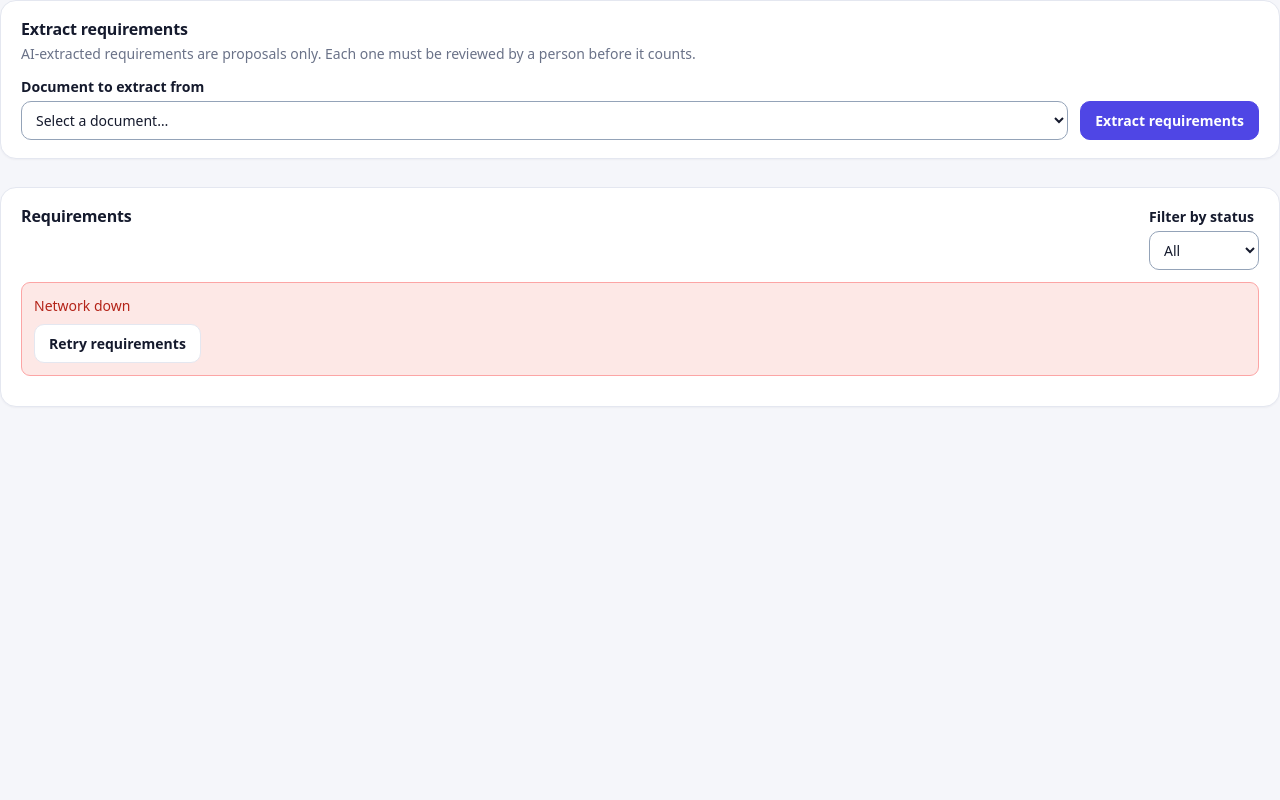
Test: RequirementsSection › shows a load error with retry
Expected: the text "Network down" is shown, [34,296,130,315]
Click the button "Retry requirements". click: (117, 344)
box: [34,324,201,363]
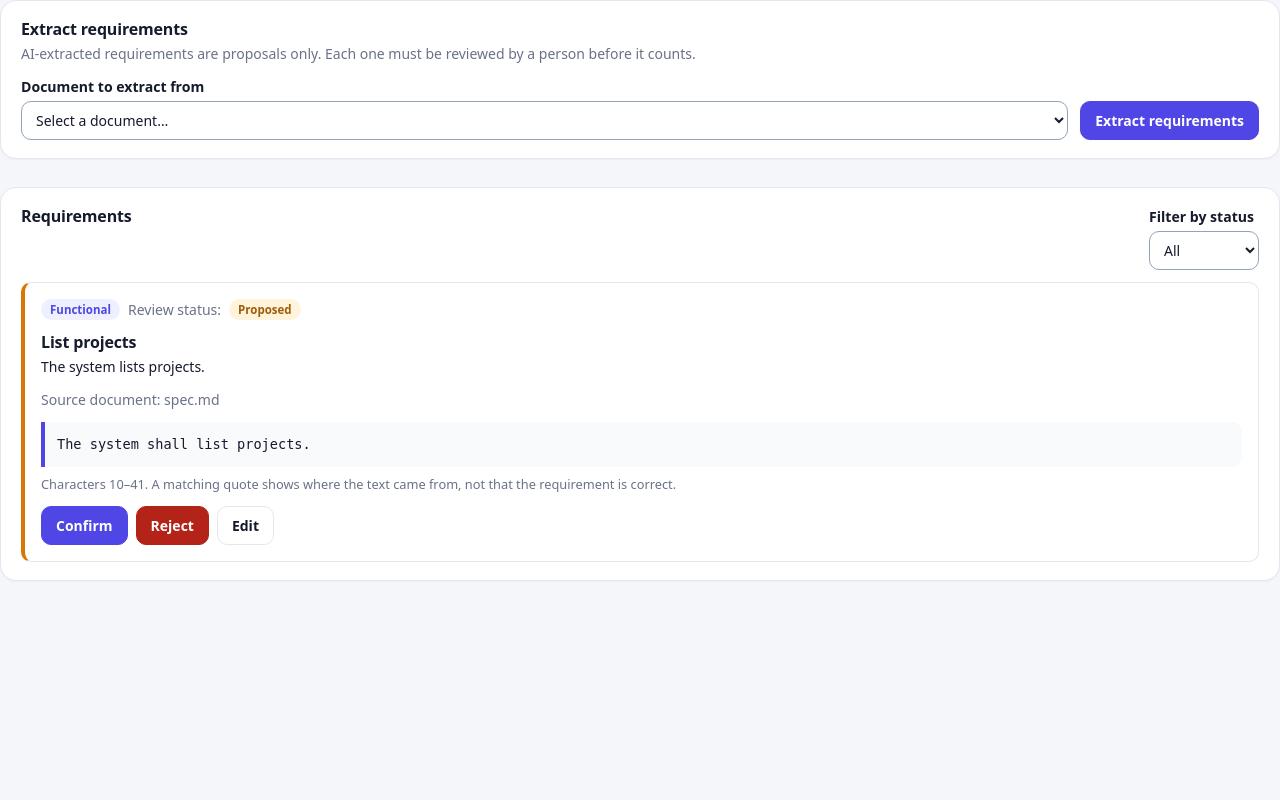
Now the heading "List projects" is shown, box [41,332,136,354]
